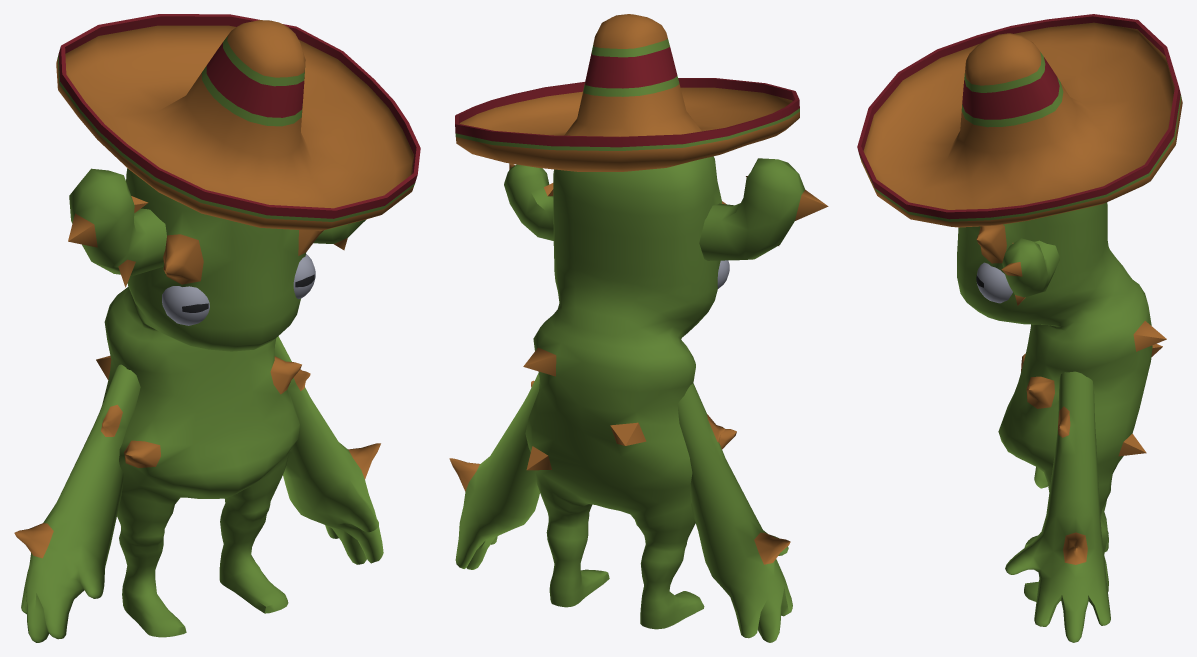
Rendered from Cactoro.glb.
3 renders of one model, left to right at view 1: azimuth 30°, elevation 25°; view 2: azimuth 150°, elevation 25°; view 3: azimuth 270°, elevation 25°, orthographic. The views are drawn at different scales.
Visible parts, largest first — view 1: SK_Cactoro; view 2: SK_Cactoro; view 3: SK_Cactoro.
Boxes of the visible parts, bbox=[...] form: SK_Cactoro: bbox=[14, 14, 420, 642]; SK_Cactoro: bbox=[449, 14, 828, 642]; SK_Cactoro: bbox=[857, 14, 1182, 642].
Size of the model in its own units: 2.53 by 3.96 by 2.14.
1 material, 1 textured.
